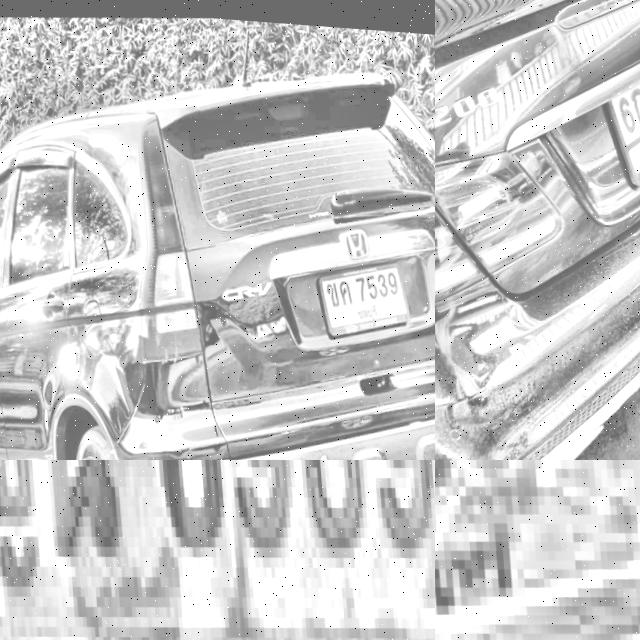license-plate: (0, 460, 435, 640), (435, 460, 640, 640), (314, 249, 411, 337), (595, 21, 640, 194)
